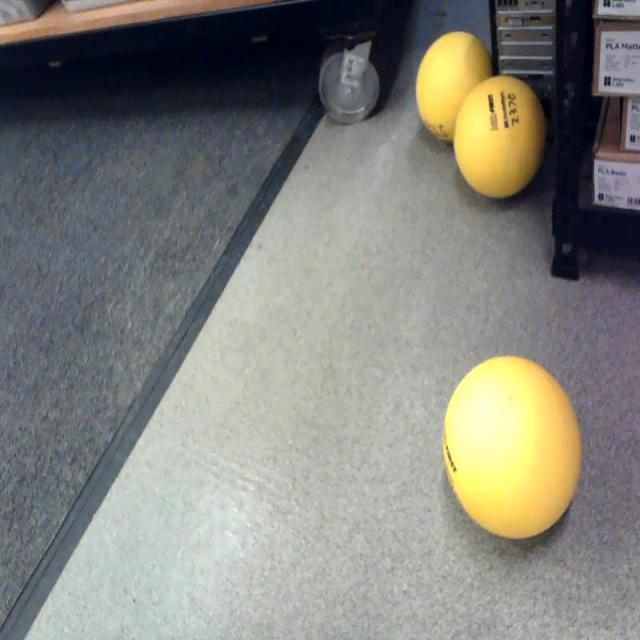Fuel: (443, 357, 581, 539), (454, 76, 544, 198), (417, 31, 493, 144)
